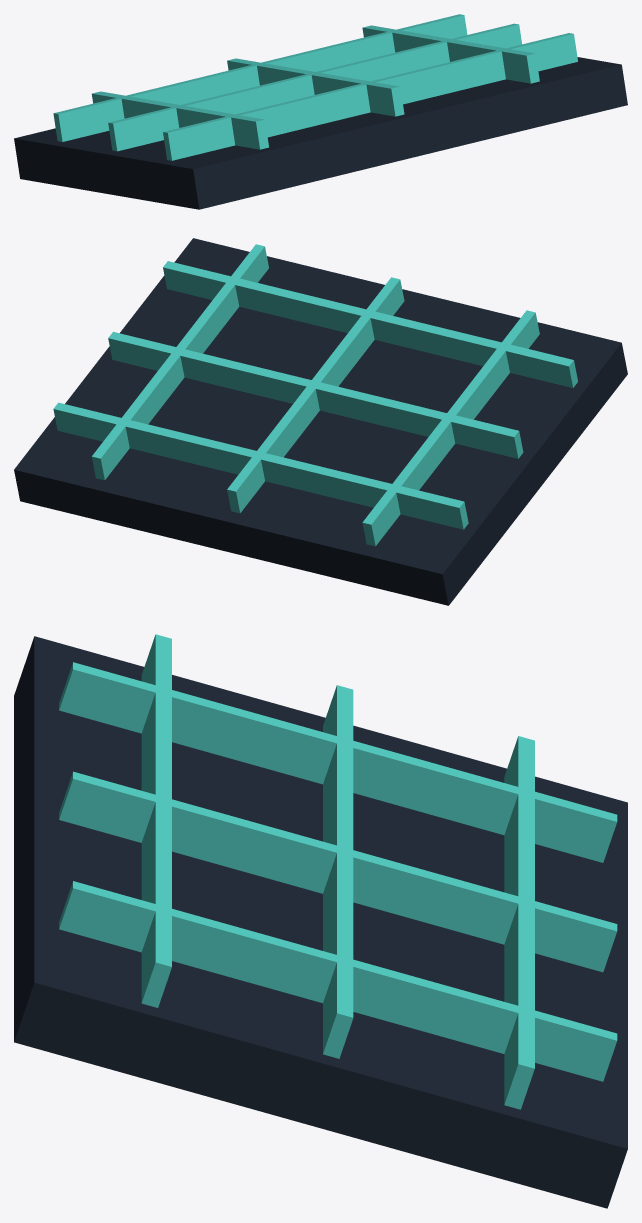
The model's file is solar-panel.glb.
3 renders of one model, top to bottom at view 1: azimuth 30°, elevation 25°; view 2: azimuth 150°, elevation 25°; view 3: azimuth 270°, elevation 25°, orthographic. The views are drawn at different scales.
Size of the model in its own units: 0.95 by 0.3329 by 0.7115.
